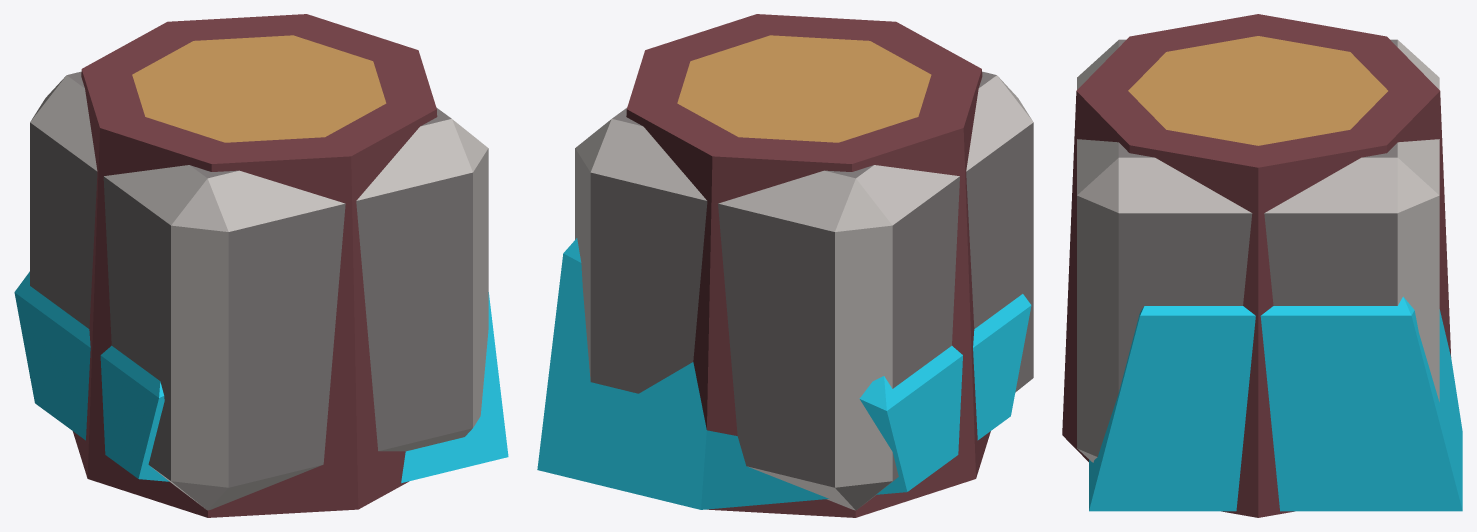
The model's file is TreeRockSafirPart.fbx.
3 views of the same model, side by side, from view 1: azimuth 30°, elevation 25°; view 2: azimuth 150°, elevation 25°; view 3: azimuth 270°, elevation 25° (orthographic).
Visible parts, largest first — view 1: Rock_part, Tree_part, Safir_part; view 2: Rock_part, Tree_part, Safir_part; view 3: Safir_part, Tree_part, Rock_part.
Boxes of the visible parts, x1,y1,x2,y2 form: Rock_part: (30, 71, 488, 510); Tree_part: (72, 14, 437, 517); Safir_part: (14, 271, 508, 483); Rock_part: (575, 71, 1033, 510); Tree_part: (626, 14, 990, 517); Safir_part: (537, 238, 1031, 509); Safir_part: (1089, 296, 1462, 511); Tree_part: (1062, 14, 1451, 517); Rock_part: (1077, 39, 1439, 462).
Bounding box in the file's own units: 0.3994 × 0.3868 × 0.4079.
Materials: 1 (1 with a texture image).
